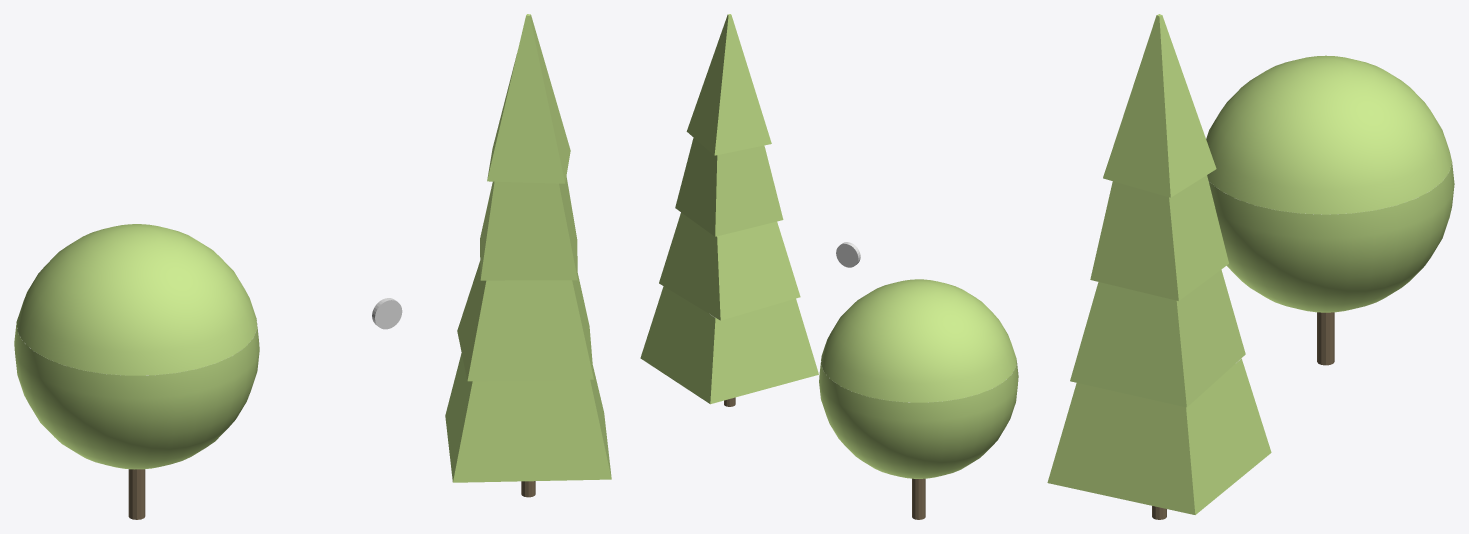
The model's file is FeelSpringsTalkingTrees.fbx.
3 renders of one model, left to right at view 1: azimuth 30°, elevation 25°; view 2: azimuth 150°, elevation 25°; view 3: azimuth 270°, elevation 25°, orthographic. The views are drawn at different scales.
Visible parts, largest first — view 1: PineTreeTop, RoundTreeBodyTop, RoundTreeBodyBottom, PineTreeBottom, RoundTreeTrunk, EyeBase; view 2: PineTreeTop, RoundTreeBodyTop, PineTreeBottom, RoundTreeBodyBottom, RoundTreeTrunk, EyeBase; view 3: PineTreeTop, RoundTreeBodyTop, PineTreeBottom, RoundTreeBodyBottom, RoundTreeTrunk.
Boxes of the visible parts, x1,y1,x2,y2 form: PineTreeTop: [457, 14, 593, 381]; RoundTreeBodyTop: [16, 224, 257, 375]; RoundTreeBodyBottom: [14, 320, 259, 469]; PineTreeBottom: [445, 353, 611, 482]; RoundTreeTrunk: [128, 469, 145, 519]; EyeBase: [372, 298, 402, 329]; PineTreeTop: [659, 14, 800, 320]; RoundTreeBodyTop: [821, 279, 1016, 402]; PineTreeBottom: [640, 286, 818, 404]; RoundTreeBodyBottom: [819, 356, 1018, 478]; RoundTreeTrunk: [912, 478, 925, 519]; EyeBase: [836, 242, 860, 267]; PineTreeTop: [1070, 14, 1245, 407]; RoundTreeBodyTop: [1206, 55, 1451, 214]; PineTreeBottom: [1047, 358, 1271, 514]; RoundTreeBodyBottom: [1208, 160, 1454, 312]; RoundTreeTrunk: [1317, 312, 1334, 365].
Bounding box in the file's own units: 177 × 160 × 117.
